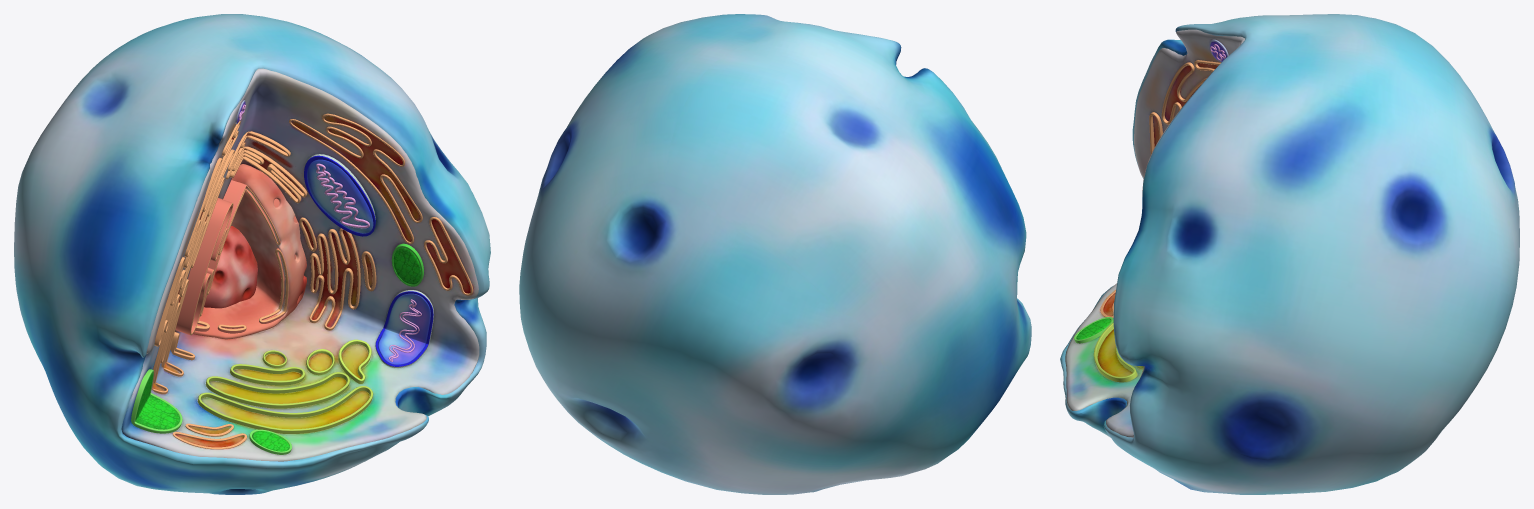
File: cell.glb
3 renders of one model, left to right at view 1: azimuth 30°, elevation 25°; view 2: azimuth 150°, elevation 25°; view 3: azimuth 270°, elevation 25°, orthographic. The views are drawn at different scales.
Visible parts, largest first — view 1: Object_6; view 2: Object_6; view 3: Object_6.
Boxes of the visible parts, x1,y1,x2,y2 form: Object_6: (14,14,490,494); Object_6: (519,14,1031,494); Object_6: (1060,14,1519,494).
Size of the model in its own units: 0.4834 by 0.4776 by 0.4519.
1 material, 1 textured.
